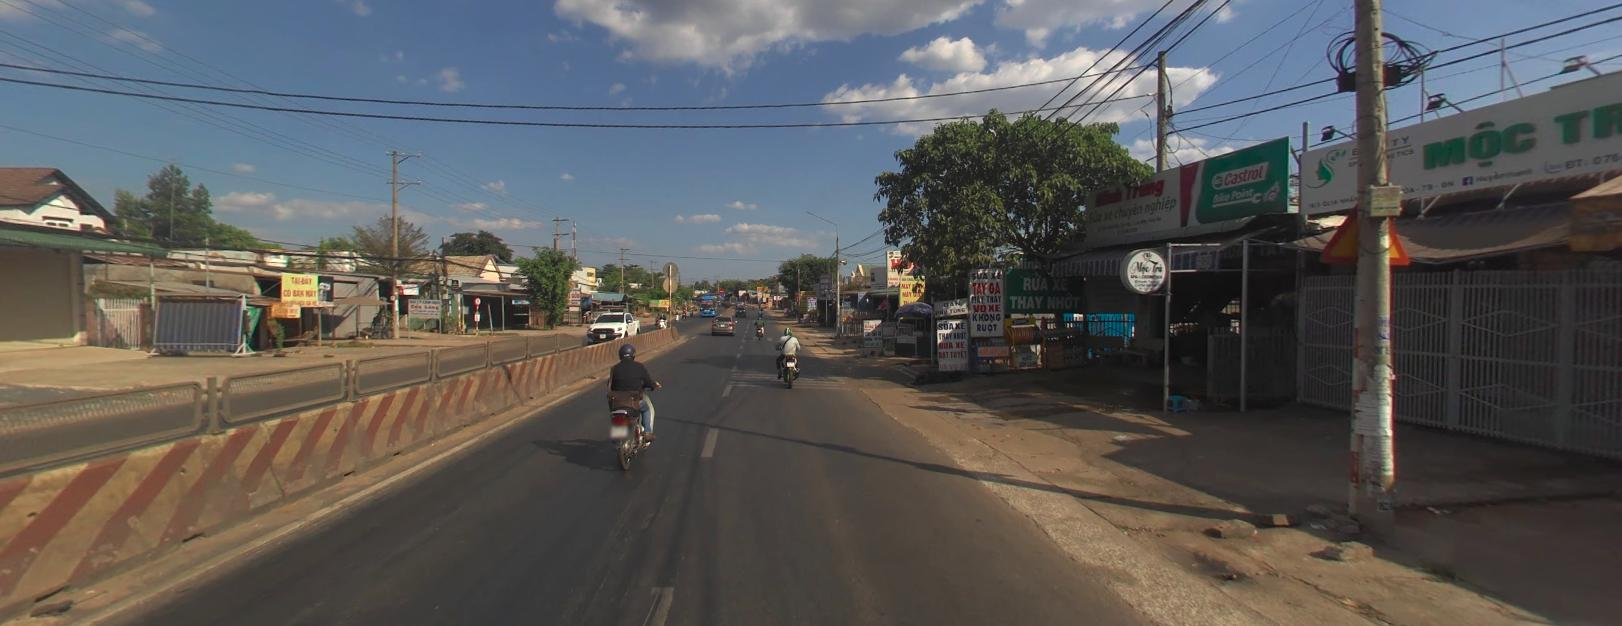Cam nguoc chieu: (718, 286, 724, 291)
Hieu lenh: (718, 293, 724, 299)
